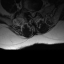CCS_normal: (32, 10, 34, 18)
LFS_severe_stenosis: (36, 9, 38, 14)
LLS_normal: (34, 10, 36, 17)
RFS_severe_stenosis: (28, 9, 30, 14)
RLS_normal: (30, 9, 32, 17)
